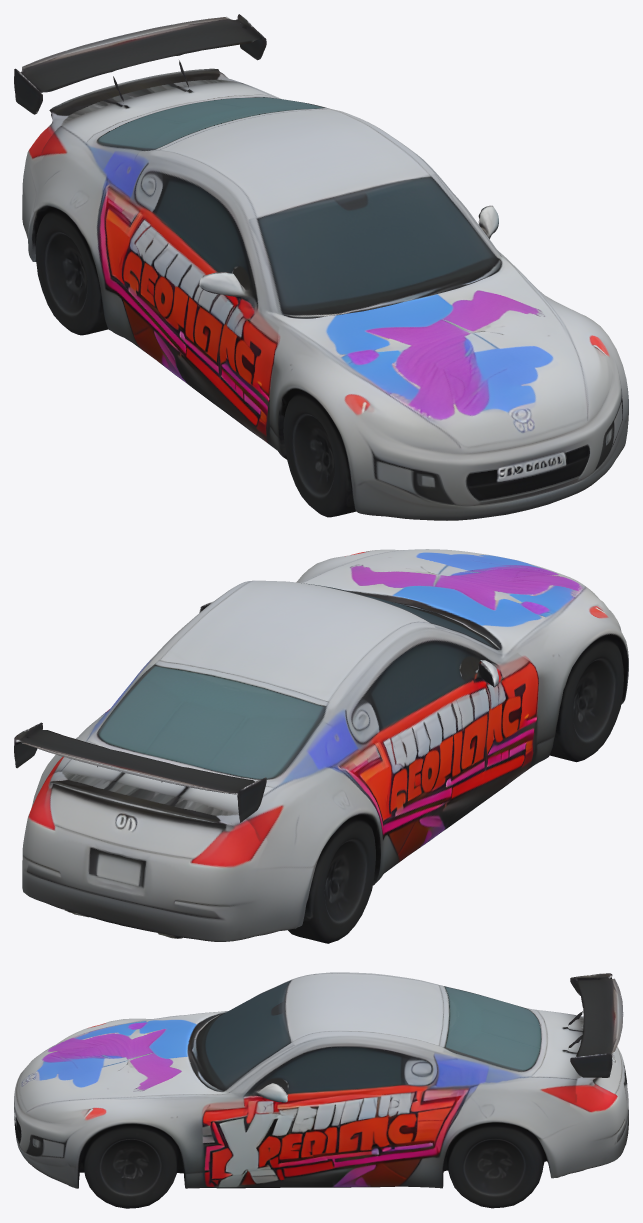
Rendered from car.glb.
3 views of the same model, one above another, from view 1: azimuth 30°, elevation 25°; view 2: azimuth 150°, elevation 25°; view 3: azimuth 270°, elevation 25° (orthographic). The views are drawn at different scales.
Visible parts, largest first — view 1: model; view 2: model; view 3: model.
Boxes of the visible parts, x1,y1,x2,y2 form: model: (14, 14, 628, 520); model: (14, 549, 628, 943); model: (14, 972, 628, 1208).
Size of the model in its own units: 0.7726 by 0.5521 by 1.9.
1 material, 1 textured.
